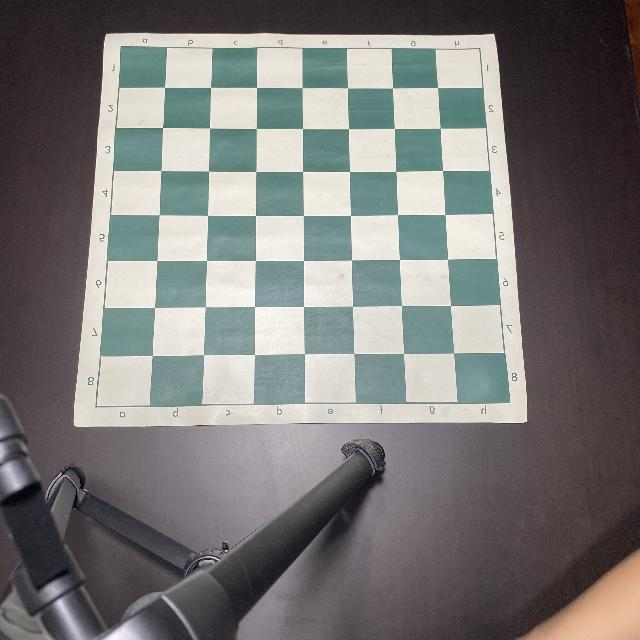board: (74, 34, 526, 428)
